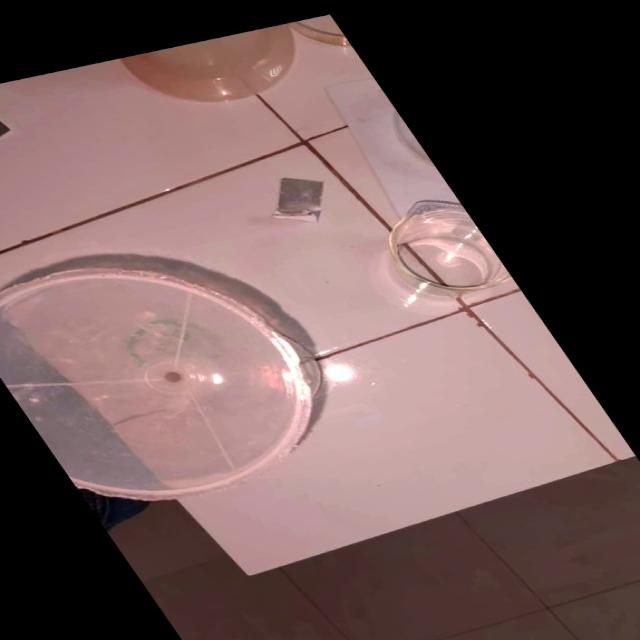Funnel: (0, 230, 374, 518)
